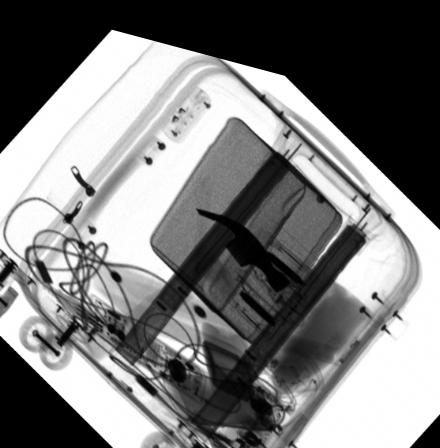Hammer: (127, 196, 291, 329)
